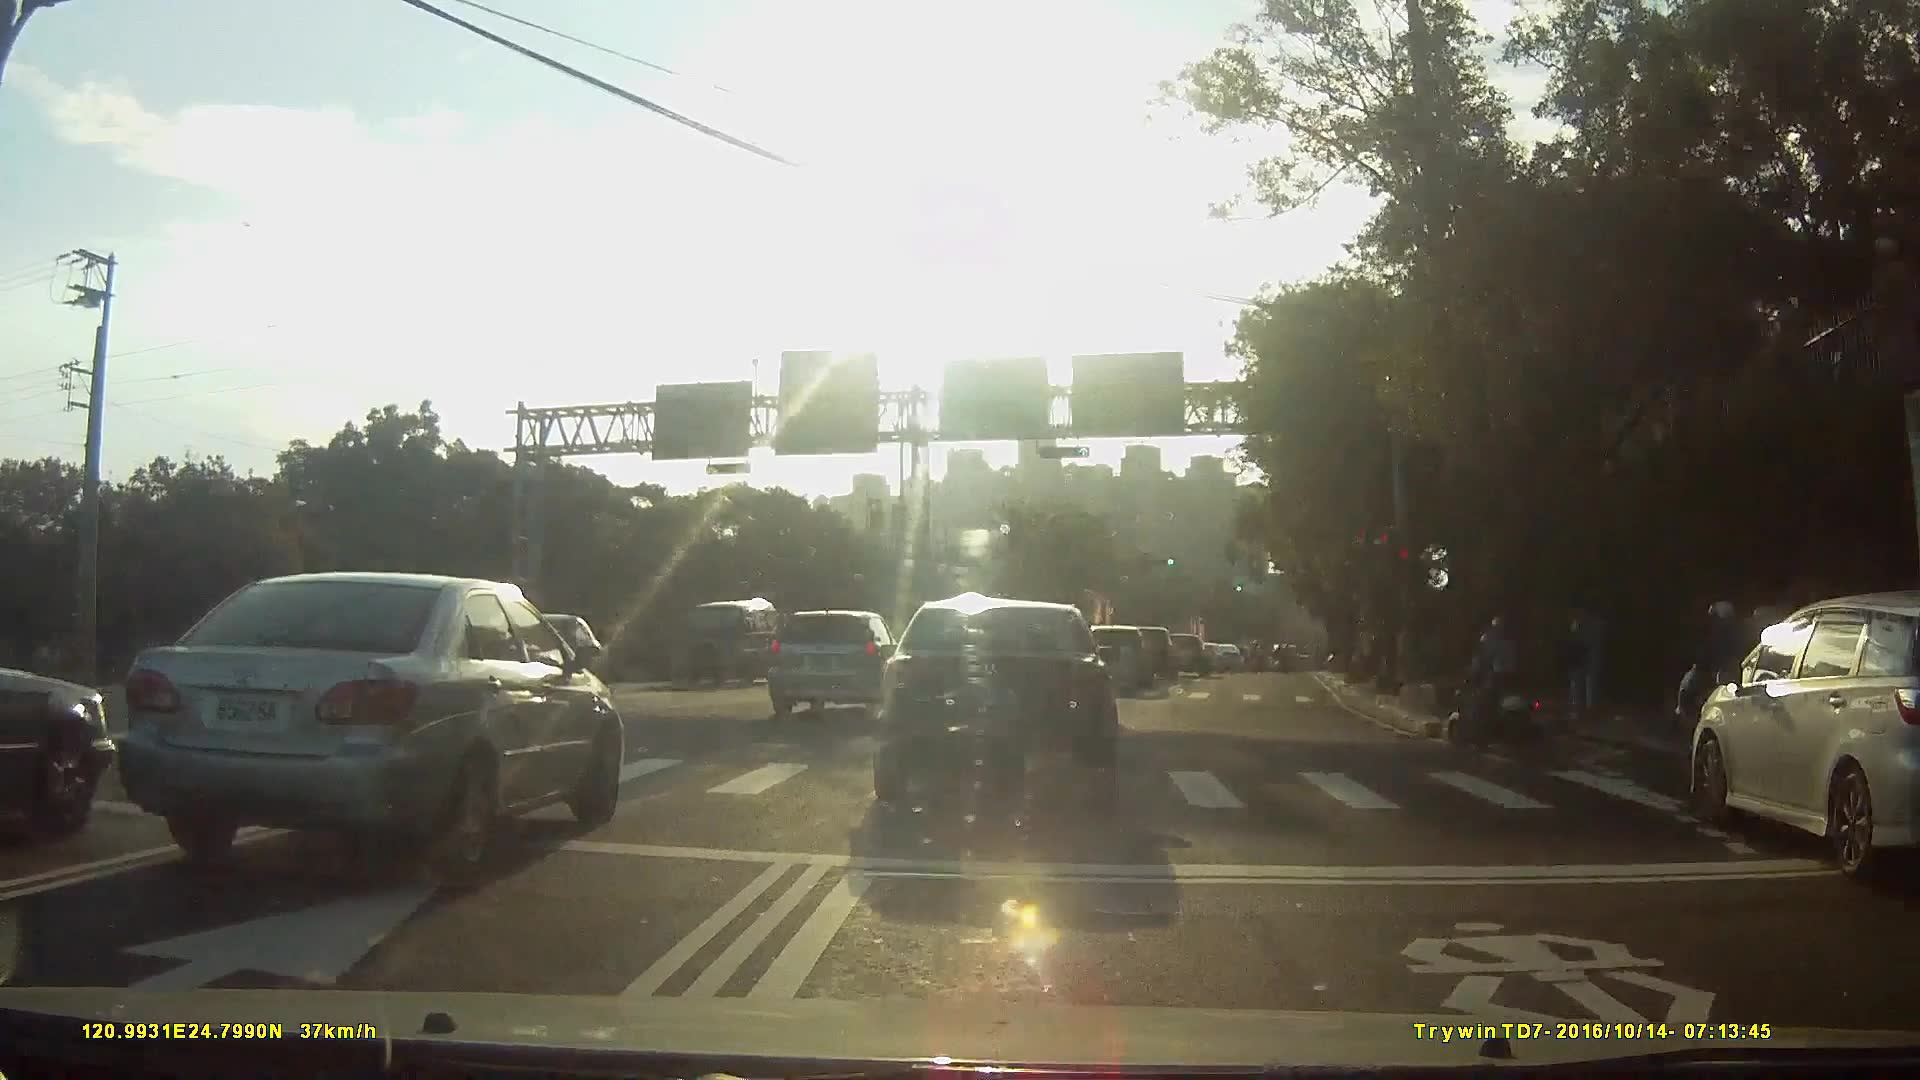pedestrian: (1562, 593, 1608, 722)
rider: (1452, 617, 1563, 760), (1677, 597, 1774, 740)
vehicle: (112, 570, 636, 877), (1686, 586, 1920, 874), (878, 595, 1128, 811), (1, 644, 113, 836), (774, 605, 916, 714), (680, 593, 796, 690), (1087, 622, 1161, 692), (1123, 622, 1185, 680), (1164, 632, 1219, 677), (1211, 645, 1249, 673)
